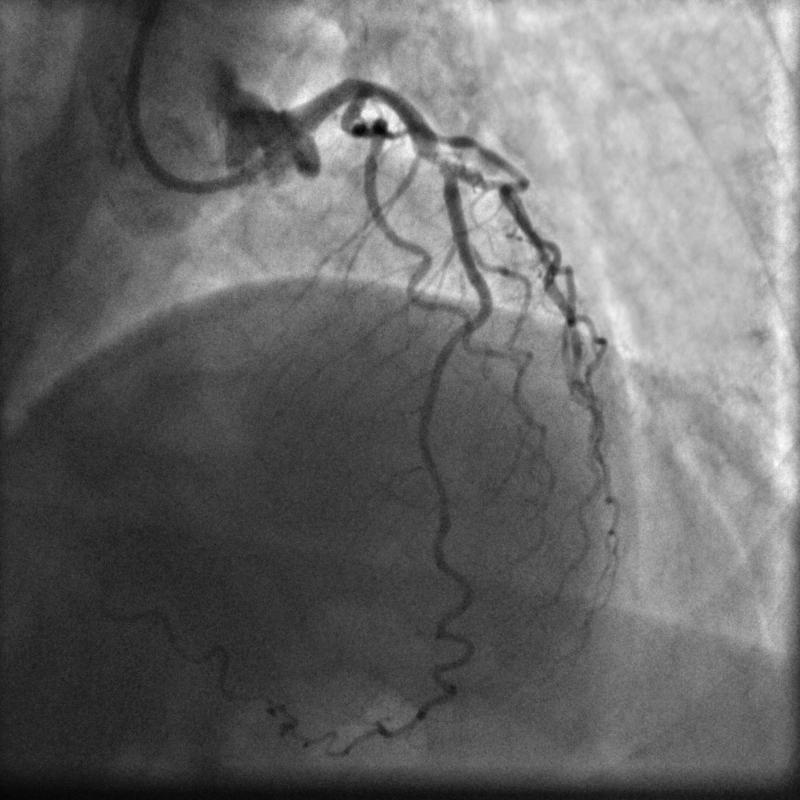Stenosis: (413, 139, 456, 173)
